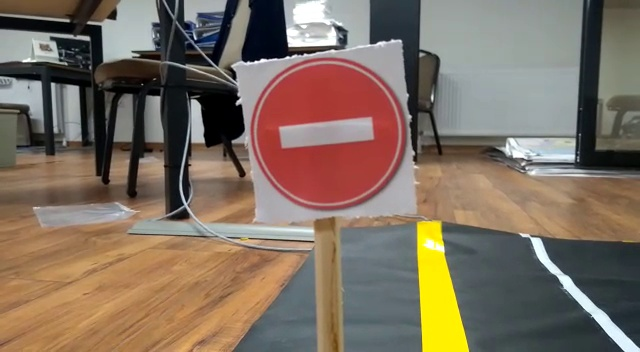girisi_olmayan_yol: (251, 62, 404, 209)
